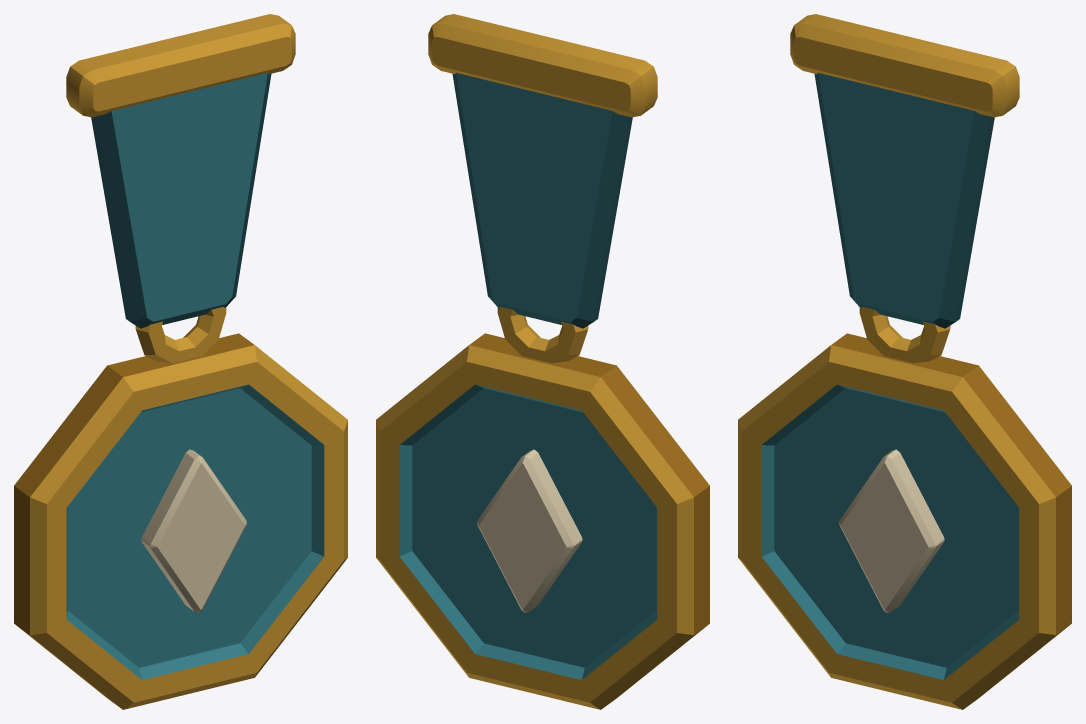
The model's file is Medal_27.glb.
3 views of the same model, side by side, from view 1: azimuth 30°, elevation 25°; view 2: azimuth 150°, elevation 25°; view 3: azimuth 330°, elevation 25° (orthographic).
Parts seen in each view (by area): view 1: Medal_27; view 2: Medal_27; view 3: Medal_27.
Boxes of the visible parts, x1=… form: Medal_27: x1=14, y1=14, x2=347, y2=709; Medal_27: x1=376, y1=14, x2=709, y2=709; Medal_27: x1=738, y1=14, x2=1071, y2=709.
Bounding box in the file's own units: 1.27 × 2.46 × 0.28.
